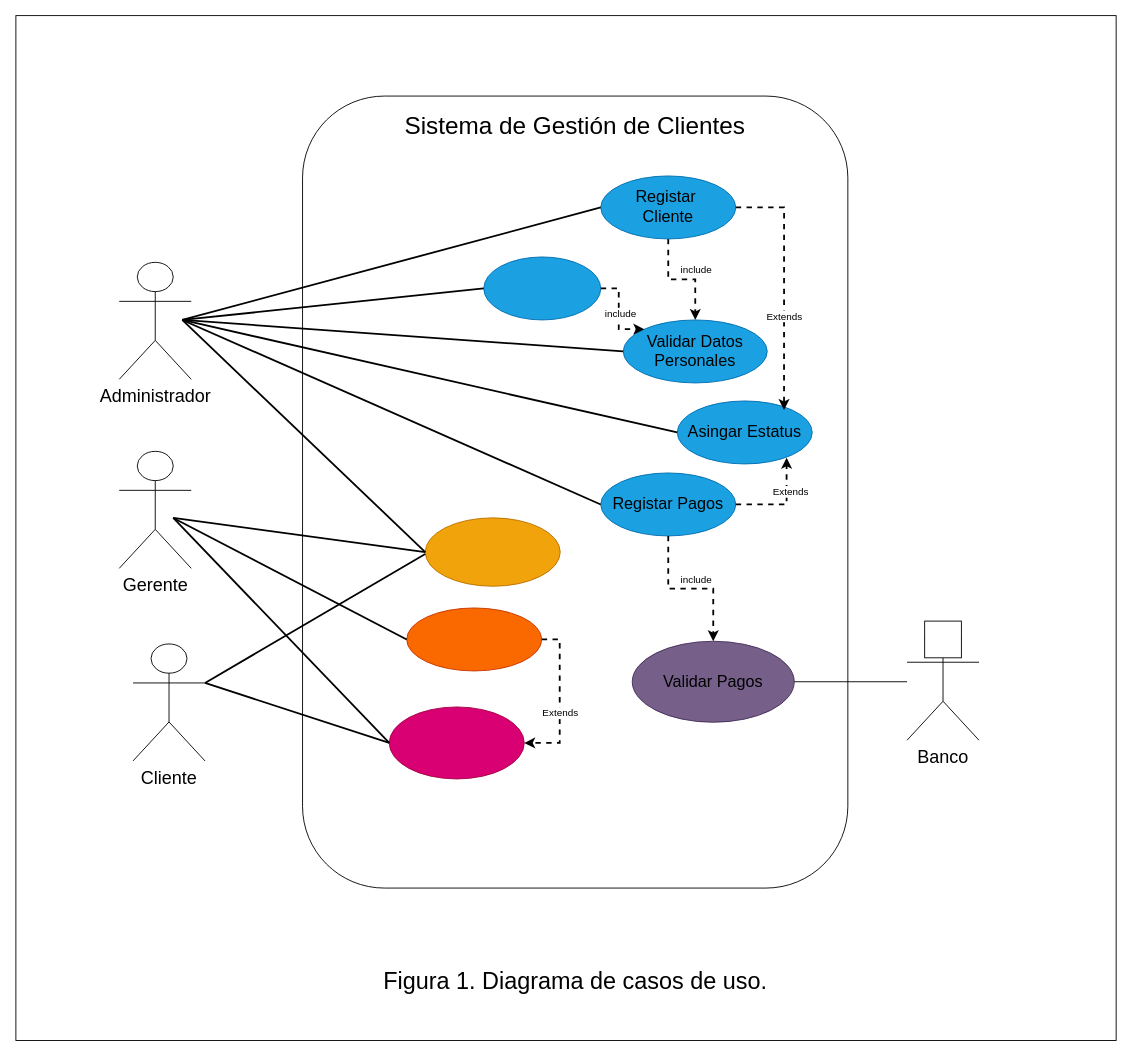
The diagram is 1132 pixels wide and 1057 high, and some of its shapes have lost their labels. The shapes that lost their labels are listed below. From the top down, each one's box as (x1, y1, x2, y2) in pixels, then its label:
(483, 256, 601, 320): Actualizar Información
(424, 517, 560, 586): Log in / Log out
(406, 607, 542, 671): Generar Reportes
(388, 706, 524, 779): Consultar Información
